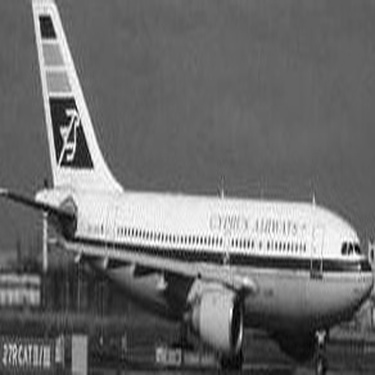airplane: (3, 1, 373, 372)
